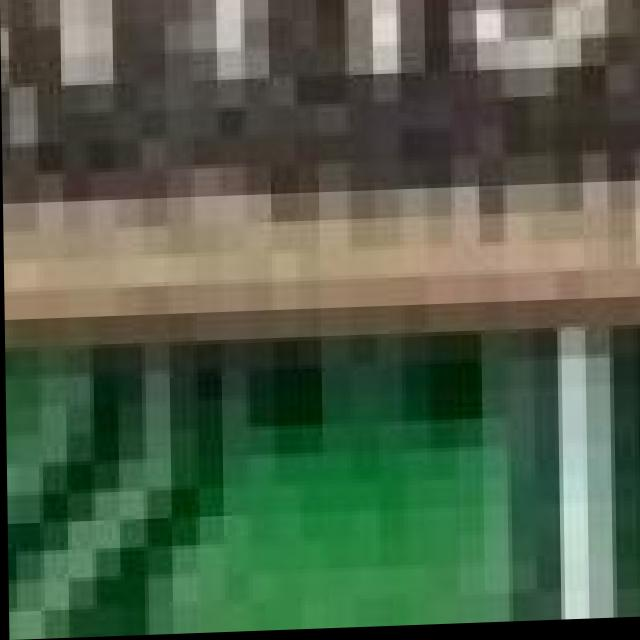clock: (0, 0, 640, 536)
